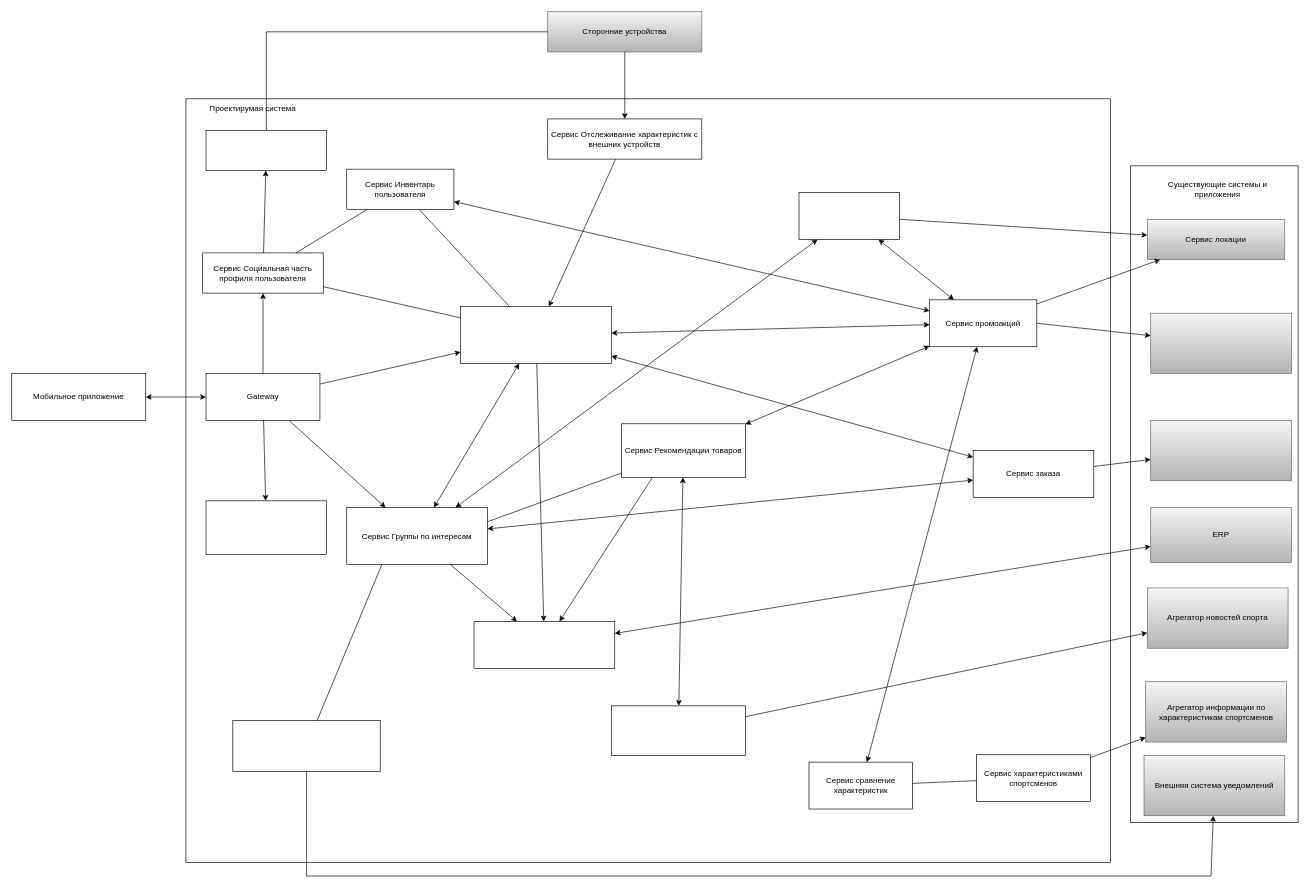
This 1310x893 diagram has some shape labels left out. The centre of each missing label's shape, as x and y in pixels:
"CRM" goes at point (1220, 343).
"Сервис аутентификации/авторизации" goes at point (266, 527).
"Сервис новостей спорта" goes at point (678, 730).
"Сервис Рекомендации пользователей в общую группу" goes at point (848, 216).
"Сервис Сторонние устройства" goes at point (266, 150).
"Сервис товаров" goes at point (544, 644).
"Сервис Тренировки" goes at point (535, 334).
"Сервис уведомлений" goes at point (306, 746).
"Система заказов" goes at point (1220, 450).
